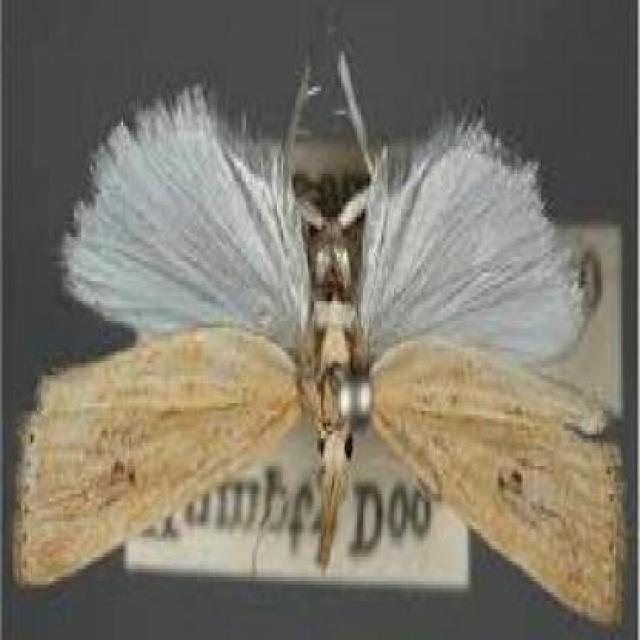stem-borer: (10, 30, 627, 631)
